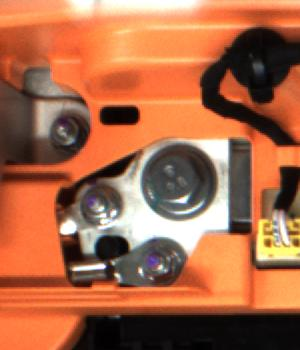nut_b: (134, 139, 221, 219)
screw_s: (44, 113, 86, 153), (138, 246, 180, 282), (74, 187, 115, 223)
